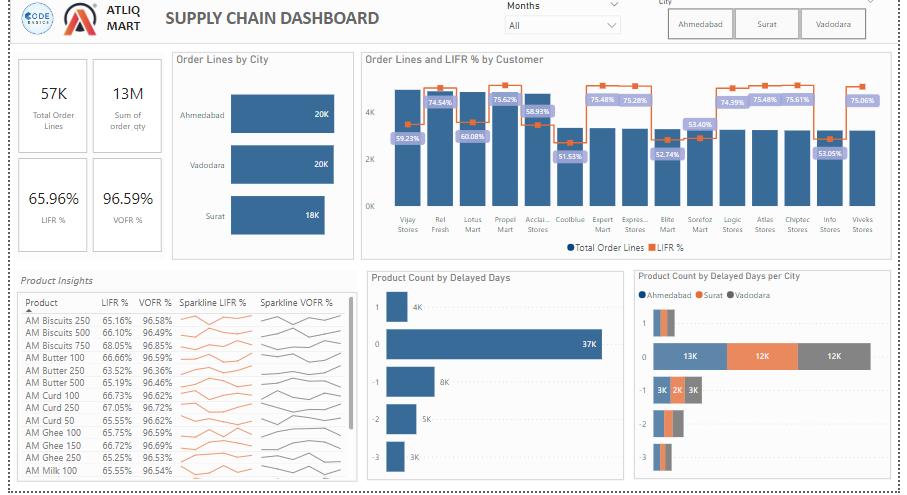

The page's visual inventory and layout, read from the dashboard file:
{"tool":"powerbi","page":{"name":"Order Line Analysis","canvas":[1600,1000],"ordinal":1},"visuals":[{"type":"textbox","box":[253.3,40,546.7,70],"z":0},{"type":"image","box":[91.6,616.8,109.5,96.1],"z":0,"group":"g2"},{"type":"lineClusteredColumnComboChart","title":"Order Lines and LIFR % by Customer","fields":{"Category":["dim_customers.customer_name"],"Y":["Measure.Total Order Lines"],"Y2":["Measure.LIFR %"]},"box":[740,568,764,388],"z":1000},{"type":"clusteredBarChart","fields":{"Category":["dim_customers.city"],"Y":["Measure.Total Order Lines"]},"box":[268,282,378,262],"z":2000},{"type":"actionButton","box":[107.2,413.4,78.2,98.3],"z":2000,"group":"g2"},{"type":"clusteredBarChart","fields":{"Y":["CountNonNull(fact_order_lines.product_id)"],"Category":["fact_order_lines.Delayed Days"]},"box":[686,282,388,262],"z":3000},{"type":"actionButton","box":[107.2,518.4,98.3,98.3],"z":3000,"group":"g2"},{"type":"barChart","title":"Product Count by Delayed Days per City","fields":{"Category":["fact_order_lines.Delayed Days"],"Series":["dim_customers.city"],"Y":["CountNonNull(fact_order_lines.product_id)"]},"box":[1112,282,388,262],"z":4000},{"type":"slicer","fields":{"Values":["dim_customers.city"]},"box":[1141.7,47.2,362.2,63],"z":5000},{"type":"slicer","fields":{"Values":["Calendar.Month"]},"box":[854.7,41.3,232.3,74.8],"z":6000},{"type":"group","id":"g1","title":"Group 1","box":[246,570,472,374],"z":7000},{"type":"cardVisual","fields":{"Data":["Measure.Total Order Lines"]},"box":[271.7,133.9,244.1,124],"z":8000},{"type":"cardVisual","fields":{"Data":["Sum(fact_order_lines.order_qty)"]},"box":[594.5,133.9,244.1,124],"z":9000},{"type":"cardVisual","fields":{"Data":["Measure.LIFR %"]},"box":[911.4,133.9,244.1,124],"z":10000},{"type":"tableEx","fields":{"Values":["dim_products.product_name","Measure.LIFR %","Measure.VOFR %","SparklineData(Measure Table.LIFR %_[Calendar.Month])","SparklineData(Measure Table.VOFR %_[Calendar.Month])"]},"box":[246,608,472,336],"z":10000,"group":"g1"},{"type":"cardVisual","fields":{"Data":["Measure.VOFR %"]},"box":[1236,133.9,244.1,124],"z":11000},{"type":"textbox","box":[73.7,762,149.7,167.6],"z":12000},{"type":"group","id":"g2","title":"Group 1","box":[91.6,413.4,114,299.4],"z":13000},{"type":"textbox","box":[252,570,464,50],"z":15001,"group":"g1"}]}

Visuals, with their boxes on the page's 1600x1000 design canvas (x1, y1, x2, y2). These are canvas units, not pixel positions in the 907x495 screenshot, which may show the page scaled, cropped or inside an application window:
textbox: 253,40,800,110
image: 92,617,201,713
"Order Lines and LIFR % by Customer" lineClusteredColumnComboChart: 740,568,1504,956
clusteredBarChart - dim_customers.city x Measure.Total Order Lines: 268,282,646,544
actionButton: 107,413,185,512
clusteredBarChart - CountNonNull(fact_order_lines.product_id) x fact_order_lines.Delayed Days: 686,282,1074,544
actionButton: 107,518,206,617
"Product Count by Delayed Days per City" barChart: 1112,282,1500,544
slicer - dim_customers.city: 1142,47,1504,110
slicer - Calendar.Month: 855,41,1087,116
"Group 1" group: 246,570,718,944
cardVisual - Measure.Total Order Lines: 272,134,516,258
cardVisual - Sum(fact_order_lines.order_qty): 594,134,839,258
cardVisual - Measure.LIFR %: 911,134,1156,258
tableEx - dim_products.product_name x Measure.LIFR %: 246,608,718,944
cardVisual - Measure.VOFR %: 1236,134,1480,258
textbox: 74,762,223,930
"Group 1" group: 92,413,206,713
textbox: 252,570,716,620
